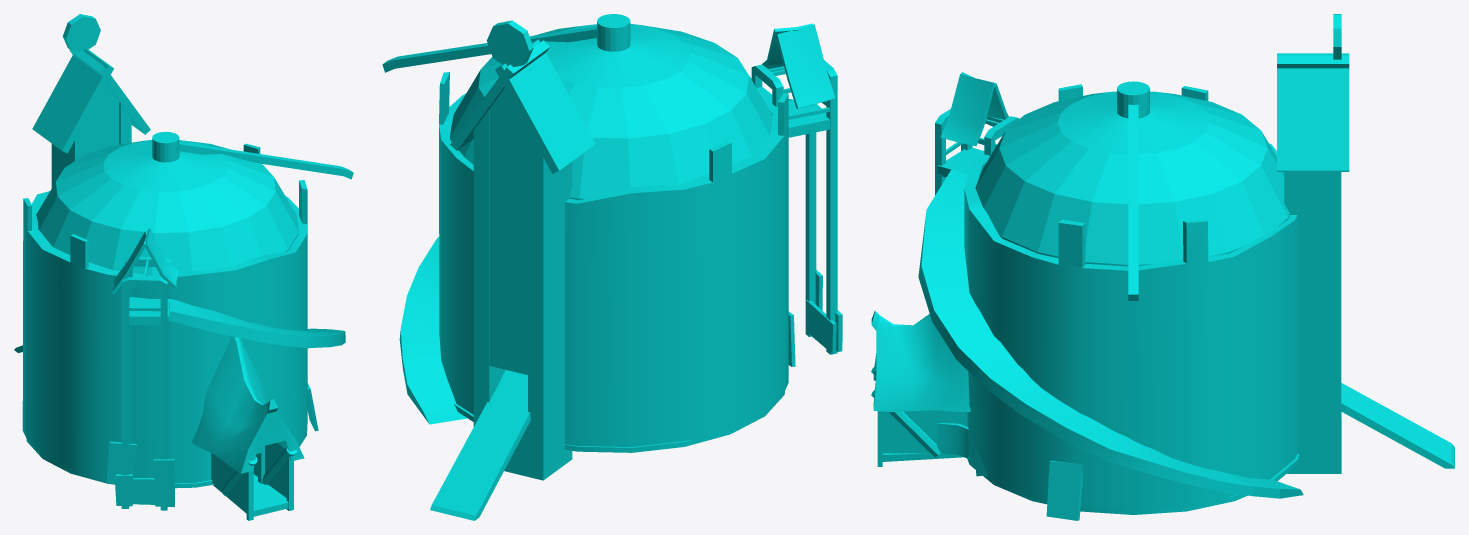
The model's file is SM_Bld_Fight_Pit_01_Collision.fbx.
The picture shows the model from 3 angles, left to right: view 1: azimuth 30°, elevation 25°; view 2: azimuth 150°, elevation 25°; view 3: azimuth 270°, elevation 25°; orthographic projection. The views are drawn at different scales.
Visible parts, largest first — view 1: SM_Bld_Fight_Pit_01_Collision; view 2: SM_Bld_Fight_Pit_01_Collision; view 3: SM_Bld_Fight_Pit_01_Collision.
Boxes of the visible parts, x1,y1,x2,y2 form: SM_Bld_Fight_Pit_01_Collision: (14, 14, 353, 520); SM_Bld_Fight_Pit_01_Collision: (382, 14, 842, 520); SM_Bld_Fight_Pit_01_Collision: (871, 14, 1454, 520).
Size of the model in its own units: 2061 by 2330 by 2779.
